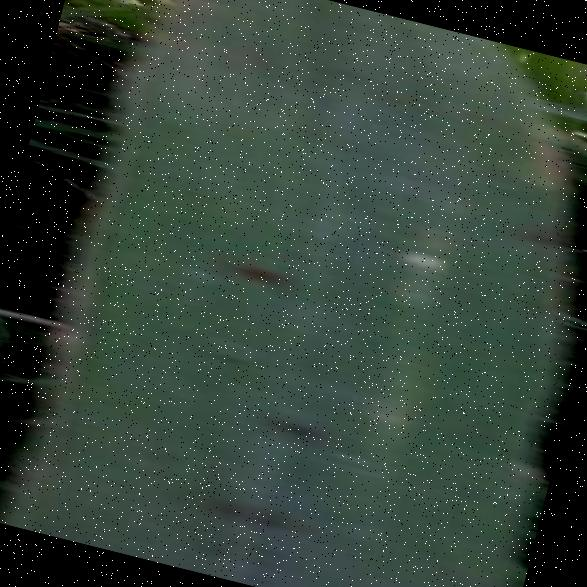Brown_Spot: (192, 474, 310, 546), (209, 232, 306, 306), (380, 223, 462, 288), (255, 394, 337, 456), (508, 204, 572, 266)
